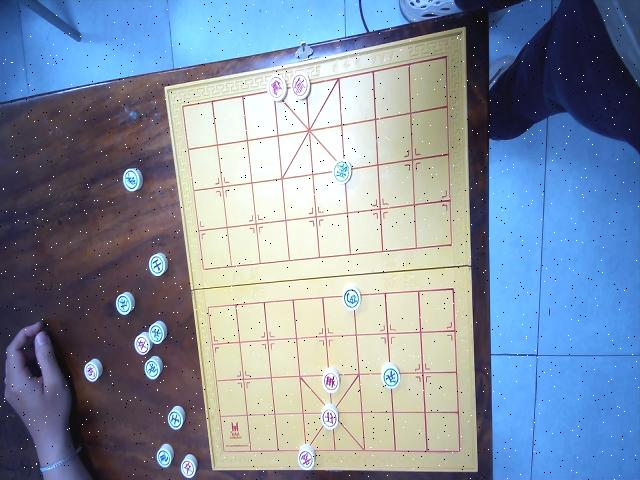piece: (290, 71, 310, 101), (267, 74, 286, 102), (122, 166, 142, 192), (148, 253, 168, 278), (381, 364, 400, 390), (333, 158, 352, 184), (342, 286, 361, 312), (320, 404, 338, 430), (322, 368, 340, 394), (298, 444, 316, 470), (180, 454, 198, 480), (144, 356, 162, 382), (167, 405, 185, 431), (83, 358, 102, 382), (115, 292, 134, 316), (156, 444, 173, 470), (134, 332, 152, 356), (148, 322, 166, 346)
